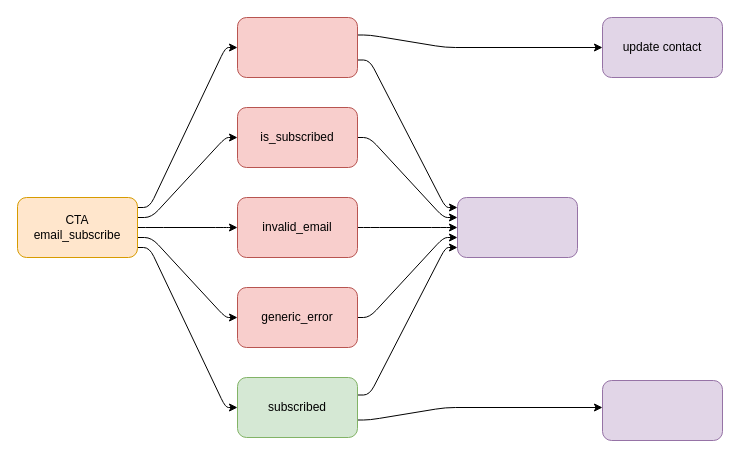
The diagram is 740 pixels wide and 458 high, and some of its shapes have lost their labels. The centre of each missing label's shape, as x and y in pixels:
insert contact: (x=662, y=410)
insert event insert address: (x=517, y=227)
was_subscribed: (x=297, y=47)
